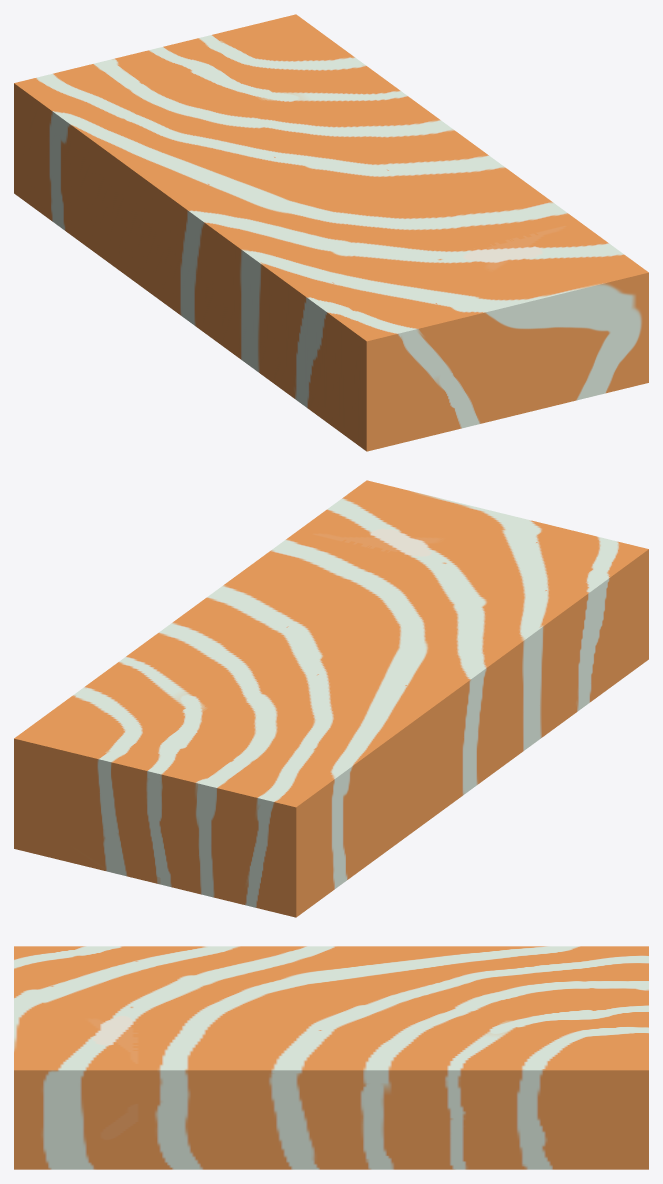
Rendered from 生魚片 1.fbx.
3 renders of one model, top to bottom at view 1: azimuth 30°, elevation 25°; view 2: azimuth 150°, elevation 25°; view 3: azimuth 270°, elevation 25°, orthographic. The views are drawn at different scales.
Visible parts, largest first — view 1: Cube; view 2: Cube; view 3: Cube.
Boxes of the visible parts, x1,y1,x2,y2 form: Cube: [14, 14, 648, 451]; Cube: [14, 480, 648, 917]; Cube: [14, 946, 648, 1169].
Bounding box in the file's own units: 200 × 74.68 × 433.
1 material, 1 textured.
